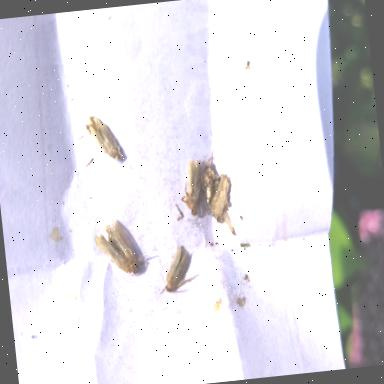pbw: (92, 218, 146, 281), (155, 243, 197, 298), (83, 110, 123, 165), (177, 158, 208, 217), (206, 172, 234, 222), (200, 160, 219, 206)
